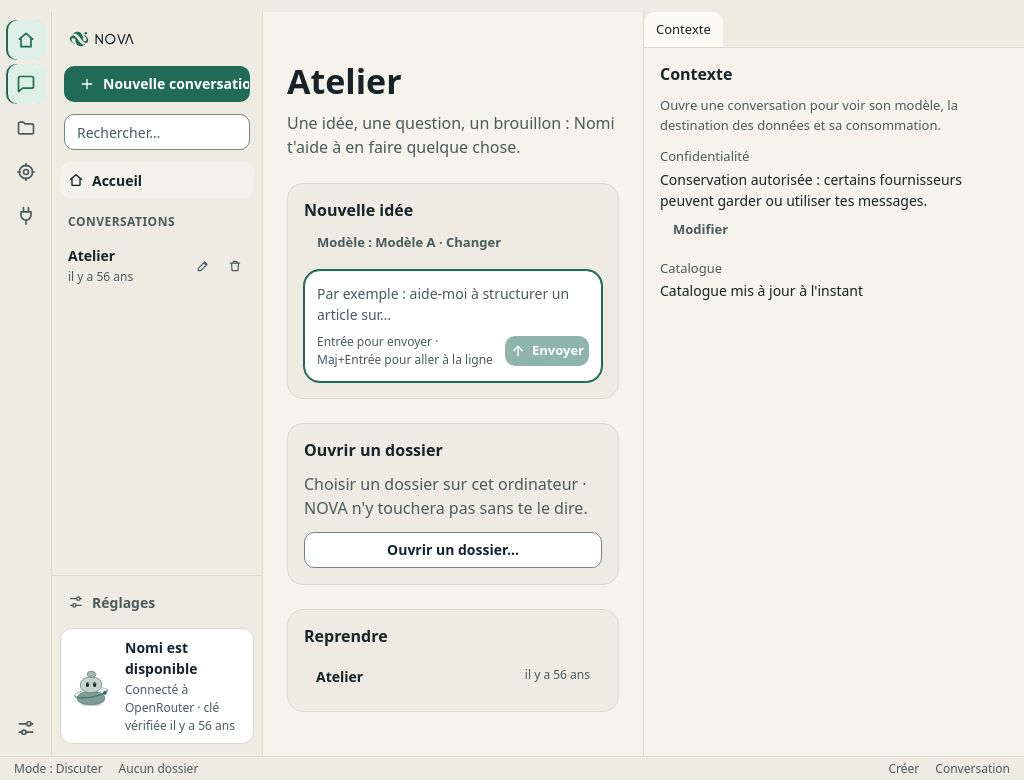
no provider available (HTTP 503) › reads as an outage with a model change, without blaming privacy when retention is allowed
Click the button "Atelier il y a 56 ans" below "Conversations".
click(124, 266)  # box top-left (60, 237), bottom-right (188, 294)
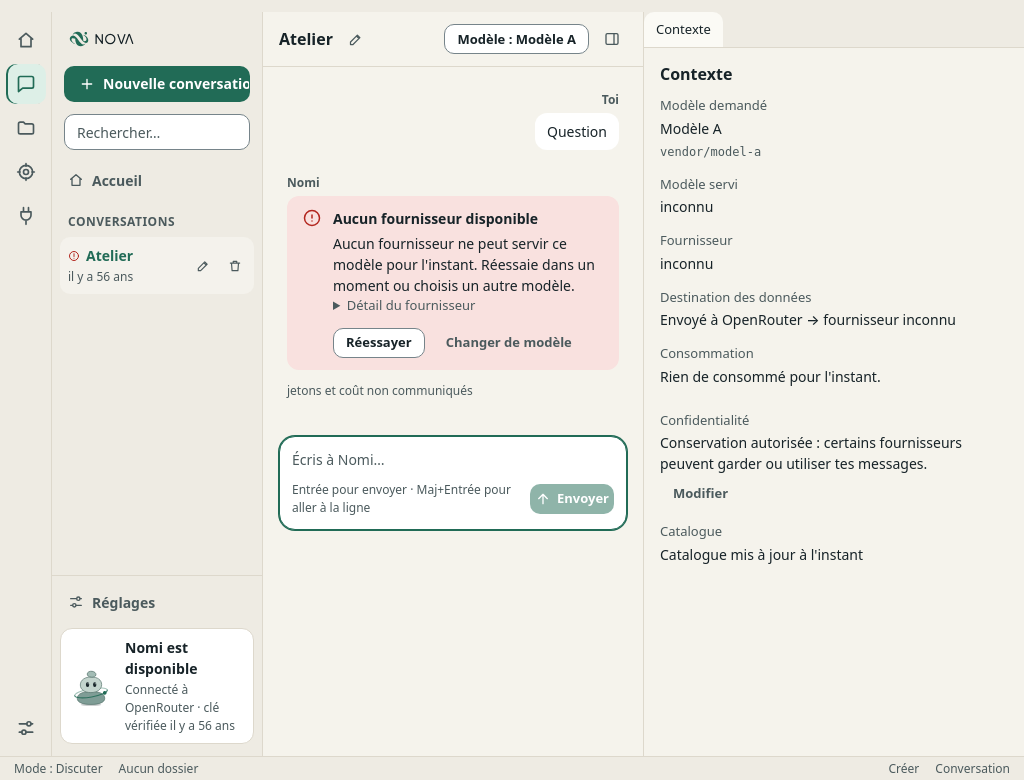
expect the text "ne peut servir ce modèle pour l'instant" is shown: met, box top-left (333, 234), bottom-right (595, 295)
expect the button "Changer de modèle" is shown: met, box top-left (433, 328), bottom-right (585, 358)
expect the button "Réessayer" is shown: met, box top-left (333, 328), bottom-right (425, 358)
